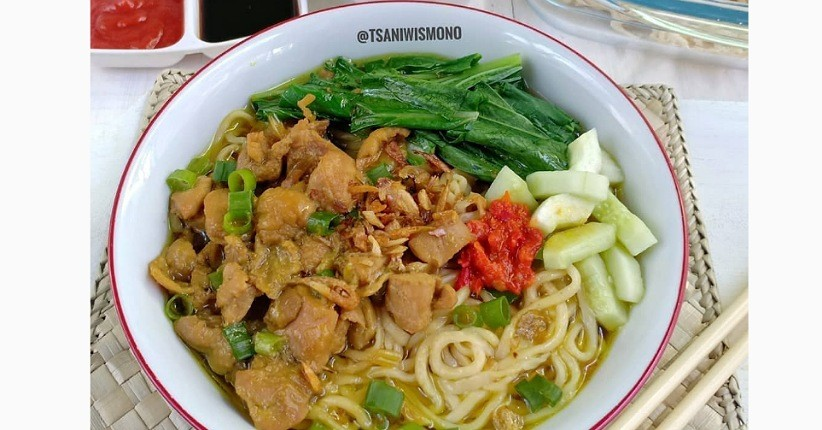Mie: (123, 65, 652, 430)
